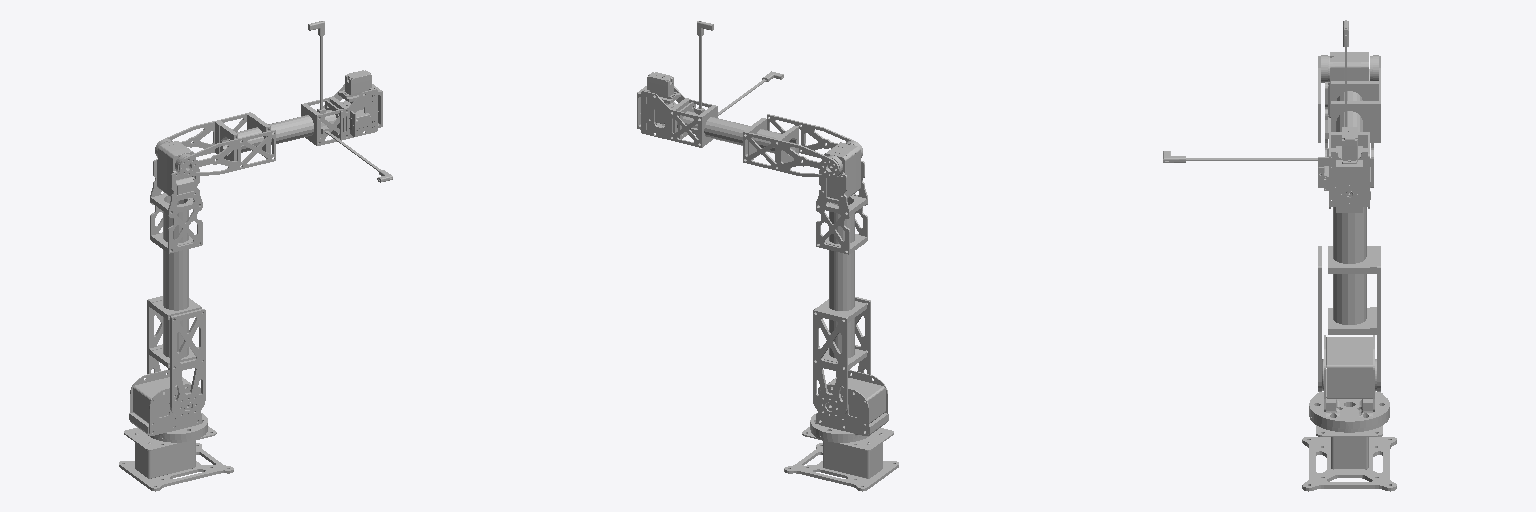
The robot description file, URDF, robot "robot_urdf":
<?xml version="1.0" encoding="utf-8"?>
<!-- This URDF was automatically created by SolidWorks to URDF Exporter! Originally created by [author] ([email redacted]) 
     Commit Version: 1.5.0-0-g9aa0fdb  Build Version: 1.5.7004.21443
     For more information, please see http://wiki.ros.org/sw_urdf_exporter -->
<robot
  name="robot_urdf">
  <link
    name="base_link">
    <inertial>
      <origin
        xyz="0.021276 0.00044685 0.17626"
        rpy="0 0 0" />
      <mass
        value="0.54035" />
      <inertia
        ixx="0.0089997"
        ixy="-3.6726E-05"
        ixz="-0.0023018"
        iyy="0.011405"
        iyz="-3.1189E-05"
        izz="0.0025882" />
    </inertial>
    <visual>
      <origin
        xyz="0 0 0"
        rpy="0 0 0" />
      <geometry>
        <mesh
          filename="package://robot_urdf/meshes/base_link.STL" />
      </geometry>
      <material
        name="">
        <color
          rgba="0.75294 0.75294 0.75294 1" />
      </material>
    </visual>
    <collision>
      <origin
        xyz="0 0 0"
        rpy="0 0 0" />
      <geometry>
        <mesh
          filename="package://robot_urdf/meshes/base_link.STL" />
      </geometry>
    </collision>
  </link>
  <link
    name="link1">
    <inertial>
      <origin
        xyz="0.021276 0.00044685 0.13516"
        rpy="0 0 0" />
      <mass
        value="0.54035" />
      <inertia
        ixx="0.0089997"
        ixy="-3.6726E-05"
        ixz="-0.0023018"
        iyy="0.011405"
        iyz="-3.1189E-05"
        izz="0.0025882" />
    </inertial>
    <visual>
      <origin
        xyz="0 0 0"
        rpy="0 0 0" />
      <geometry>
        <mesh
          filename="package://robot_urdf/meshes/link1.STL" />
      </geometry>
      <material
        name="">
        <color
          rgba="0.75294 0.75294 0.75294 1" />
      </material>
    </visual>
    <collision>
      <origin
        xyz="0 0 0"
        rpy="0 0 0" />
      <geometry>
        <mesh
          filename="package://robot_urdf/meshes/link1.STL" />
      </geometry>
    </collision>
  </link>
  <joint
    name="joint1"
    type="revolute">
    <origin
      xyz="0 0 0.0411"
      rpy="0 0 0" />
    <parent
      link="base_link" />
    <child
      link="link1" />
    <axis
      xyz="0 0 -1" />
    <limit
      lower="-3.1416"
      upper="3.1416"
      effort="0"
      velocity="0" />
    <safety_controller
      k_velocity="0" />
  </joint>
  <link
    name="link2">
    <inertial>
      <origin
        xyz="0.10206 0.021276 0.00044685"
        rpy="0 0 0" />
      <mass
        value="0.54035" />
      <inertia
        ixx="0.0025883"
        ixy="-0.0023019"
        ixz="-3.1189E-05"
        iyy="0.0089996"
        iyz="-3.6727E-05"
        izz="0.011405" />
    </inertial>
    <visual>
      <origin
        xyz="0 0 0"
        rpy="0 0 0" />
      <geometry>
        <mesh
          filename="package://robot_urdf/meshes/link2.STL" />
      </geometry>
      <material
        name="">
        <color
          rgba="0.75294 0.75294 0.75294 1" />
      </material>
    </visual>
    <collision>
      <origin
        xyz="0 0 0"
        rpy="0 0 0" />
      <geometry>
        <mesh
          filename="package://robot_urdf/meshes/link2.STL" />
      </geometry>
    </collision>
  </link>
  <joint
    name="joint2"
    type="revolute">
    <origin
      xyz="0 0 0.0331"
      rpy="1.5708 -1.5708 3.1416" />
    <parent
      link="link1" />
    <child
      link="link2" />
    <axis
      xyz="0 0 1" />
    <limit
      lower="-1.5708"
      upper="1.5708"
      effort="0"
      velocity="0" />
    <safety_controller
      k_velocity="0" />
  </joint>
  <link
    name="link3">
    <inertial>
      <origin
        xyz="-0.147937241564067 0.0212764751606143 0.000446849686881917"
        rpy="0 0 0" />
      <mass
        value="0.54035344098223" />
      <inertia
        ixx="0.00258825458019123"
        ixy="-0.00230185859642895"
        ixz="-3.11885241174241E-05"
        iyy="0.00899964513781678"
        iyz="-3.67265355845029E-05"
        izz="0.0114048117898332" />
    </inertial>
    <visual>
      <origin
        xyz="0 0 0"
        rpy="0 0 0" />
      <geometry>
        <mesh
          filename="package://robot_urdf/meshes/link3.STL" />
      </geometry>
      <material
        name="">
        <color
          rgba="0.752941176470588 0.752941176470588 0.752941176470588 1" />
      </material>
    </visual>
    <collision>
      <origin
        xyz="0 0 0"
        rpy="0 0 0" />
      <geometry>
        <mesh
          filename="package://robot_urdf/meshes/link3.STL" />
      </geometry>
    </collision>
  </link>
  <joint
    name="joint3"
    type="revolute">
    <origin
      xyz="0.25 0 0"
      rpy="0 0 0" />
    <parent
      link="link2" />
    <child
      link="link3" />
    <axis
      xyz="0 0 -1" />
    <limit
      lower="-3.927"
      upper="0.7854"
      effort="0"
      velocity="0" />
    <safety_controller
      k_velocity="0" />
  </joint>
  <link
    name="link4">
    <inertial>
      <origin
        xyz="0.000446848980863048 -0.14793724156409 -0.198123524656126"
        rpy="0 0 0" />
      <mass
        value="0.54035344098223" />
      <inertia
        ixx="0.0114048117898332"
        ixy="-3.11885241173949E-05"
        ixz="-3.6726535584489E-05"
        iyy="0.0025882545801912"
        iyz="-0.00230185859642891"
        izz="0.00899964513781681" />
    </inertial>
    <visual>
      <origin
        xyz="0 0 0"
        rpy="0 0 0" />
      <geometry>
        <mesh
          filename="package://robot_urdf/meshes/link4.STL" />
      </geometry>
      <material
        name="">
        <color
          rgba="0.752941176470588 0.752941176470588 0.752941176470588 1" />
      </material>
    </visual>
    <collision>
      <origin
        xyz="0 0 0"
        rpy="0 0 0" />
      <geometry>
        <mesh
          filename="package://robot_urdf/meshes/link4.STL" />
      </geometry>
    </collision>
  </link>
  <joint
    name="joint4"
    type="revolute">
    <origin
      xyz="0 0.2194 0"
      rpy="1.5708 -1.5708 0" />
    <parent
      link="link3" />
    <child
      link="link4" />
    <axis
      xyz="0 0 1" />
    <limit
      lower="-2.3562"
      upper="2.3562"
      effort="0"
      velocity="0" />
    <safety_controller
      k_velocity="0" />
  </joint>
  <link
    name="link5">
    <inertial>
      <origin
        xyz="-0.224639891158 0.000440482500214565 -0.147937771624016"
        rpy="0 0 0" />
      <mass
        value="0.54035344098223" />
      <inertia
        ixx="0.0089996451378173"
        ixy="-3.67265355845038E-05"
        ixz="-0.00230185859642822"
        iyy="0.0114048117898332"
        iyz="-3.11885241174529E-05"
        izz="0.00258825458019071" />
    </inertial>
    <visual>
      <origin
        xyz="0 0 0"
        rpy="0 0 0" />
      <geometry>
        <mesh
          filename="package://robot_urdf/meshes/link5.STL" />
      </geometry>
      <material
        name="">
        <color
          rgba="0.752941176470588 0.752941176470588 0.752941176470588 1" />
      </material>
    </visual>
    <collision>
      <origin
        xyz="0 0 0"
        rpy="0 0 0" />
      <geometry>
        <mesh
          filename="package://robot_urdf/meshes/link5.STL" />
      </geometry>
    </collision>
  </link>
  <joint
    name="joint5"
    type="revolute">
    <origin
      xyz="0 0 0.026516"
      rpy="1.5708 -1.5708 0" />
    <parent
      link="link4" />
    <child
      link="link5" />
    <axis
      xyz="0 0 1" />
    <limit
      lower="-1.5708"
      upper="1.5708"
      effort="0"
      velocity="0" />
    <safety_controller
      k_velocity="0" />
  </joint>
  <link
    name="end_link">
    <inertial>
      <origin
        xyz="-0.00132271156773267 -0.147937771635159 -0.245489891158021"
        rpy="0 0 0" />
      <mass
        value="0.54035344098223" />
      <inertia
        ixx="0.0114048117898332"
        ixy="-3.11885241174277E-05"
        ixz="-3.6726535584495E-05"
        iyy="0.00258825458019069"
        iyz="-0.0023018585964282"
        izz="0.00899964513781732" />
    </inertial>
    <visual>
      <origin
        xyz="0 0 0"
        rpy="0 0 0" />
      <geometry>
        <mesh
          filename="package://robot_urdf/meshes/end_link.STL" />
      </geometry>
      <material
        name="">
        <color
          rgba="0.752941176470588 0.752941176470588 0.752941176470588 1" />
      </material>
    </visual>
    <collision>
      <origin
        xyz="0 0 0"
        rpy="0 0 0" />
      <geometry>
        <mesh
          filename="package://robot_urdf/meshes/end_link.STL" />
      </geometry>
    </collision>
  </link>
  <joint
    name="joint6"
    type="revolute">
    <origin
      xyz="0.02085 0.0017632 0"
      rpy="1.5708 0 1.5708" />
    <parent
      link="link5" />
    <child
      link="end_link" />
    <axis
      xyz="0 0 1" />
    <limit
      lower="-2.3562"
      upper="2.3562"
      effort="0"
      velocity="0" />
    <safety_controller
      k_velocity="0" />
  </joint>
</robot>

--- Render facts (derived) ---
3 views of the same robot in one strip: view 1: azimuth 30°, elevation 25°; view 2: azimuth 150°, elevation 25°; view 3: azimuth 270°, elevation 25° (orthographic).
Model robot_urdf with 7 links and 6 joints (6 revolute), rooted at base_link, posed every joint at zero.
Visible links, largest first — view 1: link2, link3, base_link, link1, end_link, link4; view 2: link2, link3, base_link, link1, end_link, link4; view 3: link2, link1, link3, base_link, link4, end_link.
Link boxes in pixels (box(x1,y1,x2,y2)): link2: box(147, 141, 205, 418); link3: box(155, 84, 377, 176); base_link: box(119, 426, 233, 491); link1: box(129, 370, 207, 442); end_link: box(308, 21, 392, 182); link4: box(338, 70, 382, 127); link2: box(813, 142, 870, 418); link3: box(641, 86, 862, 177); base_link: box(784, 427, 898, 491); link1: box(810, 370, 888, 442); end_link: box(678, 21, 783, 139); link4: box(637, 72, 680, 129); link2: box(1318, 52, 1380, 391); link1: box(1309, 335, 1389, 432); link3: box(1318, 55, 1380, 208); base_link: box(1302, 392, 1396, 491); link4: box(1336, 127, 1362, 212); end_link: box(1163, 20, 1367, 162).
Bounding box of the posed robot: 0.265 × 0.1733 × 0.4307 m (x, y, z).
Meshes: 7 distinct files referenced, 7 mesh visuals loaded (7 binary STL).